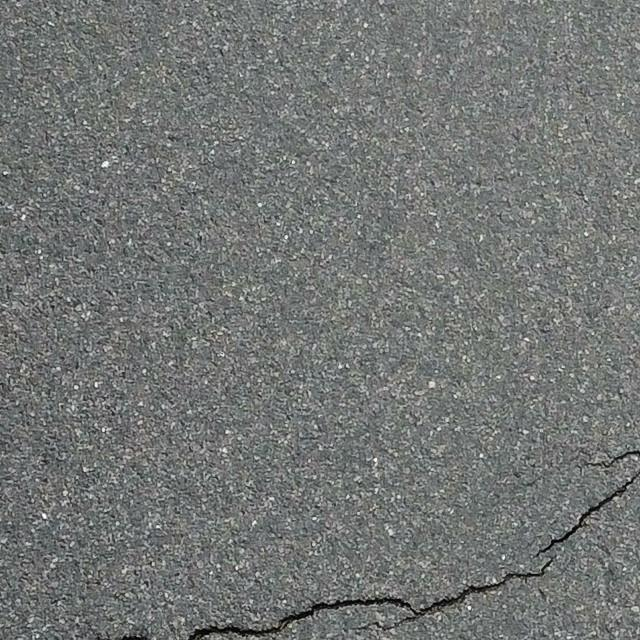TransverseCrack: (187, 446, 640, 638)
